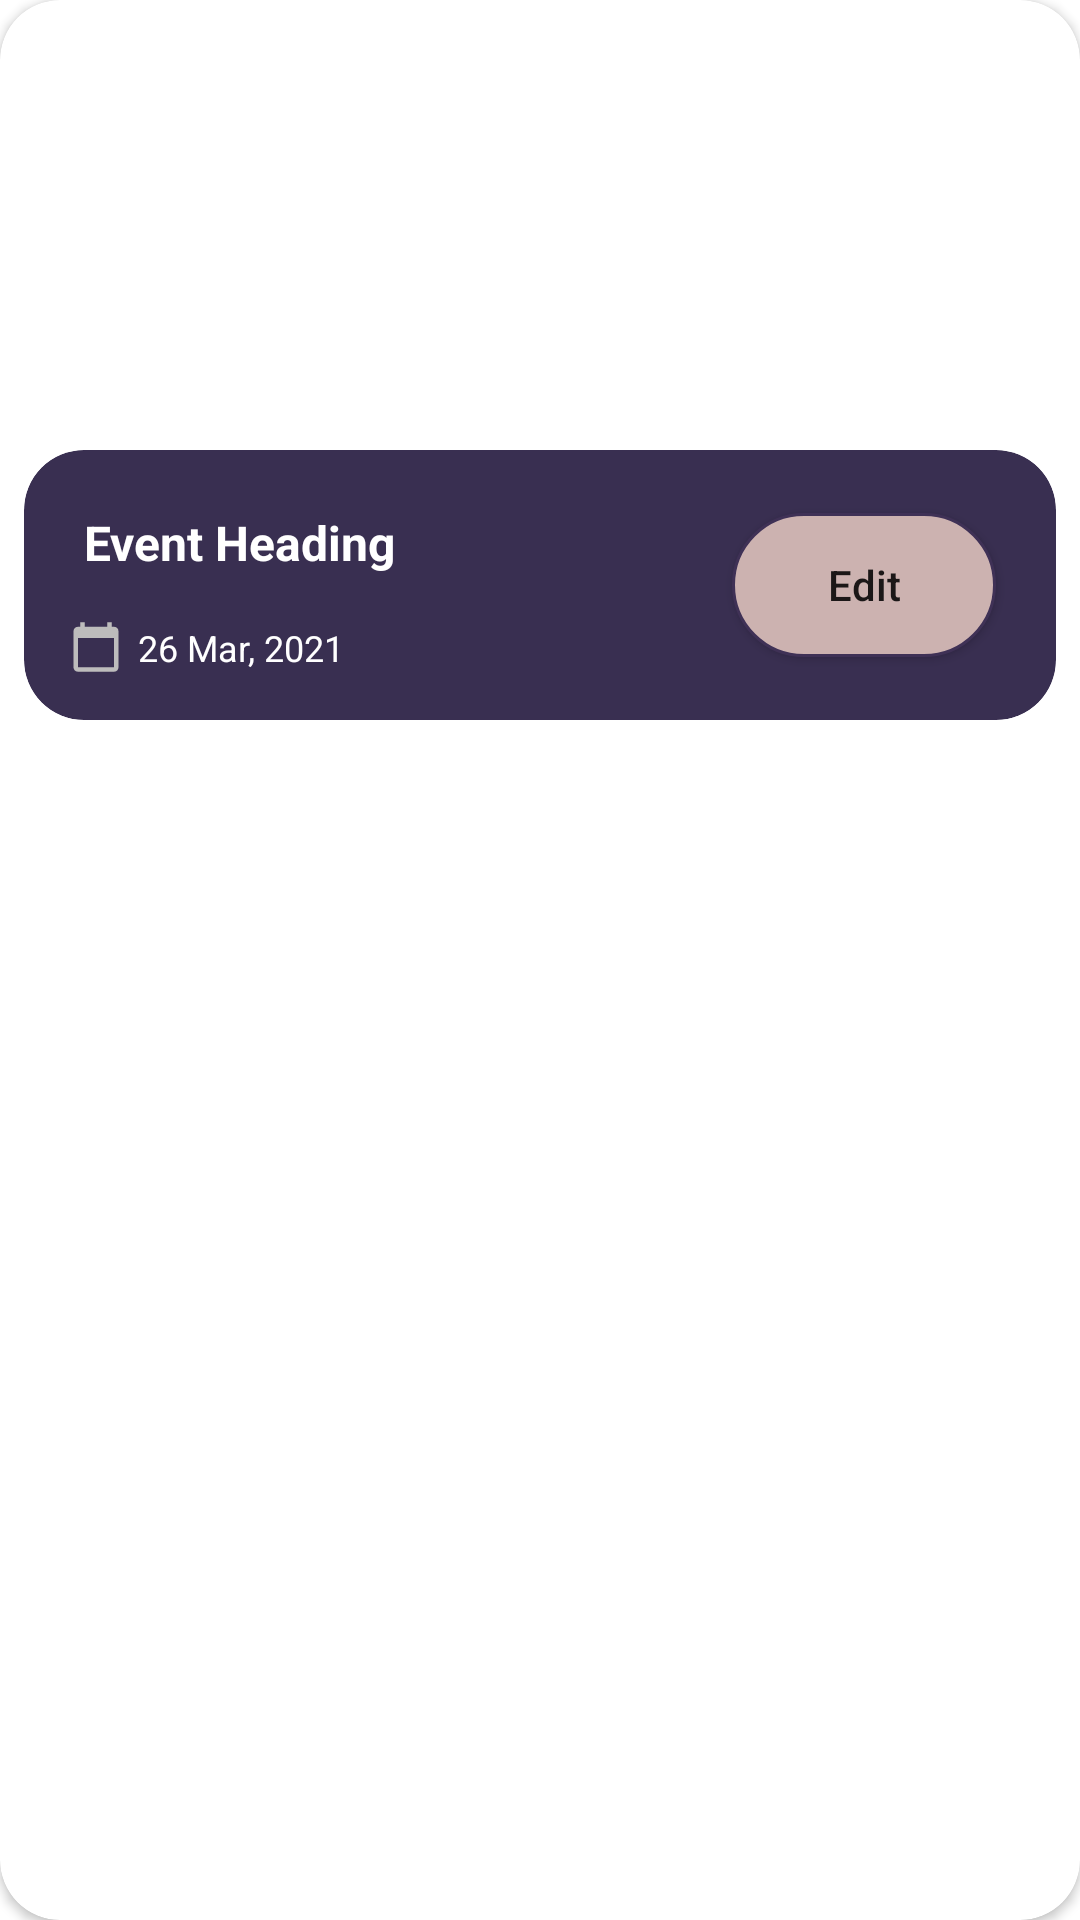

Icons on this 1080x1920 Android screen, each with its box as box=[x1, y1, x2, y2]:
calender: box=[73, 622, 119, 672]
